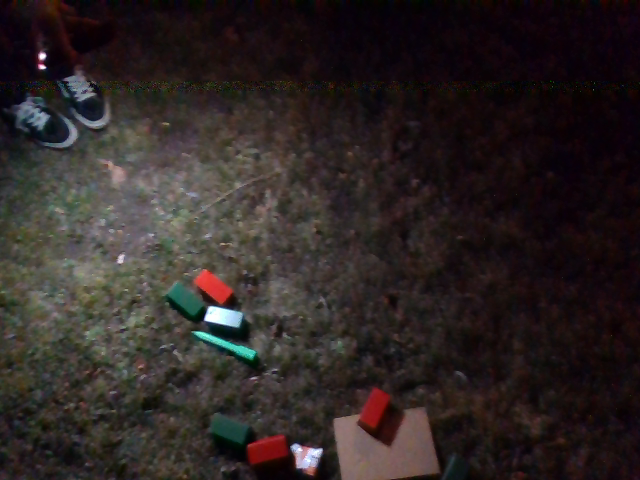Probe: (187, 326, 271, 363)
